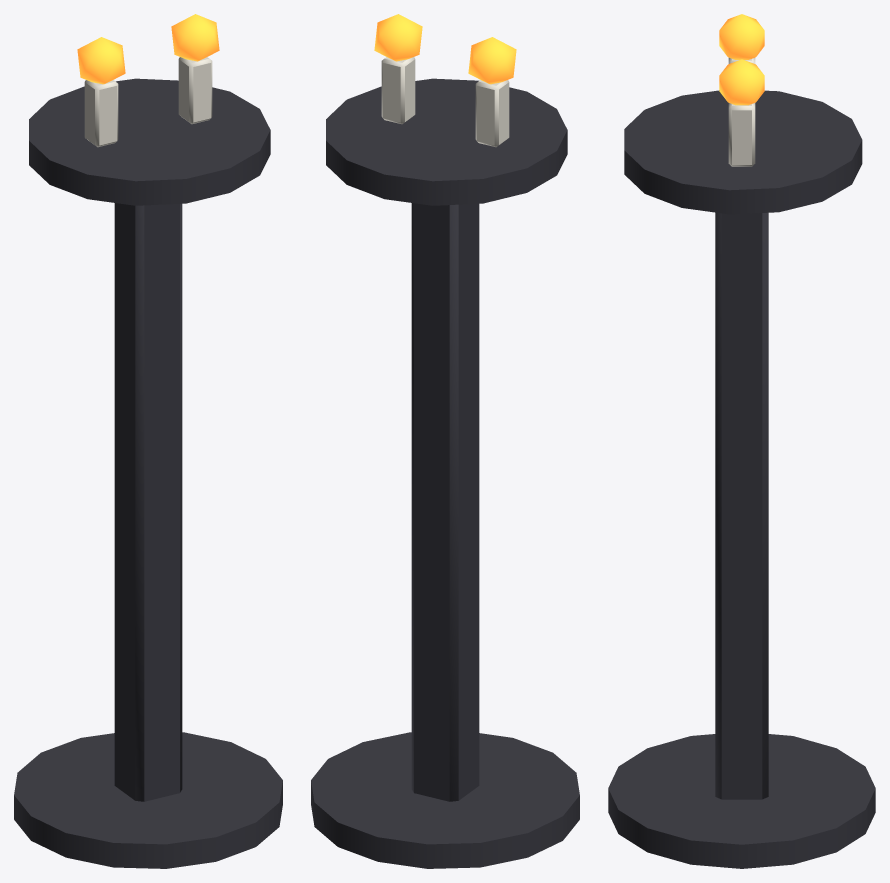
File: candles.glb
3 views of the same model, side by side, from view 1: azimuth 30°, elevation 25°; view 2: azimuth 150°, elevation 25°; view 3: azimuth 270°, elevation 25° (orthographic).
Visible parts, largest first — view 1: building, fire; view 2: building, fire; view 3: building, fire.
Boxes of the visible parts, x1,y1,x2,y2 form: building: [14, 78, 282, 868]; fire: [77, 14, 219, 147]; building: [311, 78, 579, 868]; fire: [374, 14, 516, 147]; building: [608, 90, 875, 868]; fire: [719, 14, 764, 166].
Bounding box in the file's own units: 0.4 × 1.29 × 0.4.
